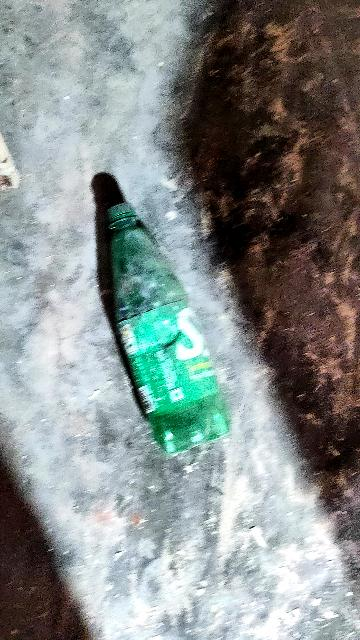bottle: (78, 192, 237, 461)
